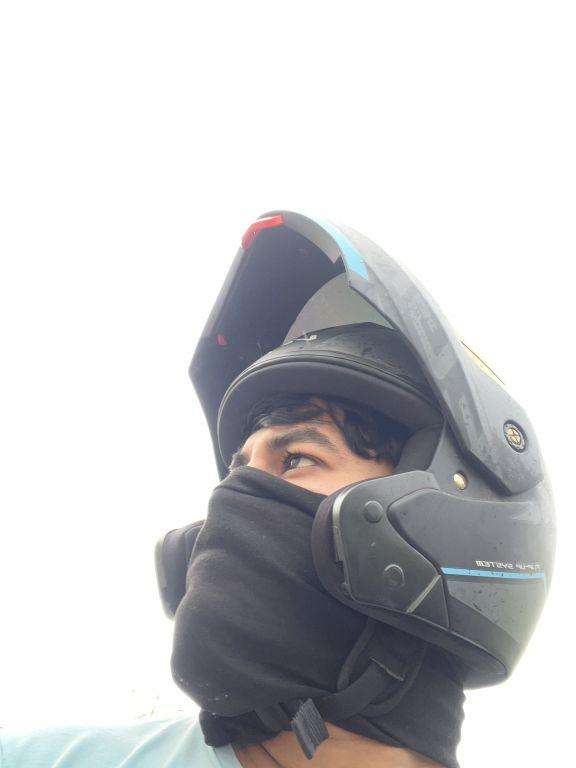helmet: (135, 192, 576, 742)
